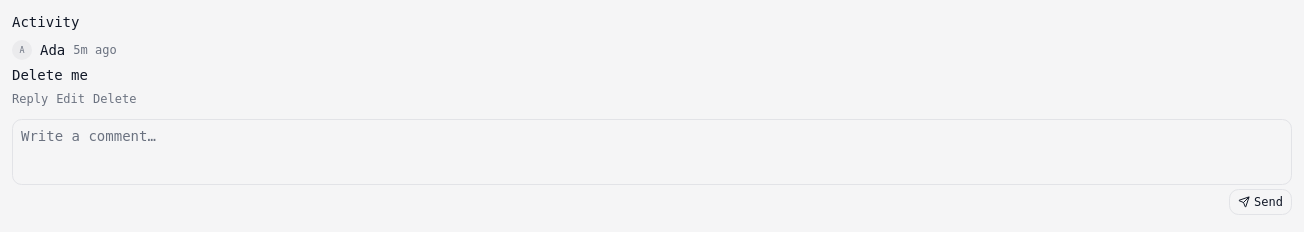
Scenario: issue activity feed › deleting a comment replaces the body with the tombstone
The width and height of the screenshot is (1304, 232).
Click the button "Delete" at (115, 99), box top-left (93, 91), bottom-right (136, 107)
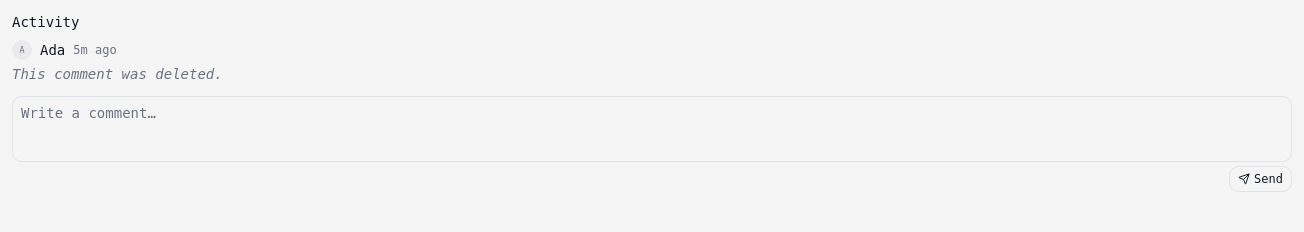
Now the text "This comment was deleted." is shown, box top-left (12, 66), bottom-right (223, 82)
Now the text "Delete me" is gone
